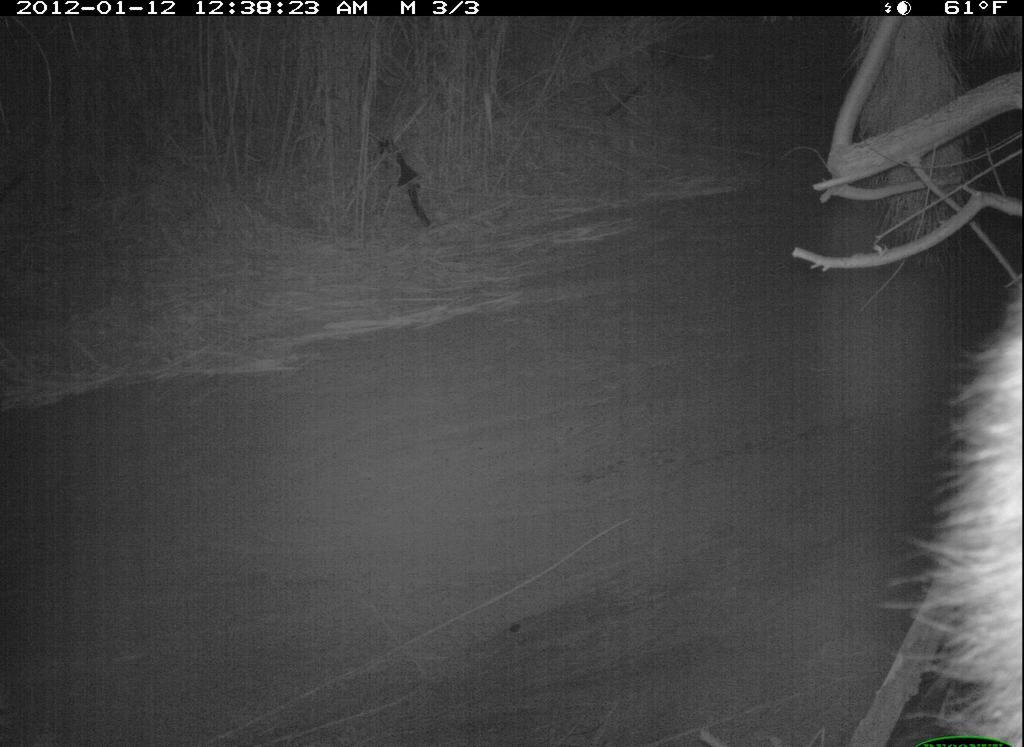raccoon: (911, 269, 1022, 745)
